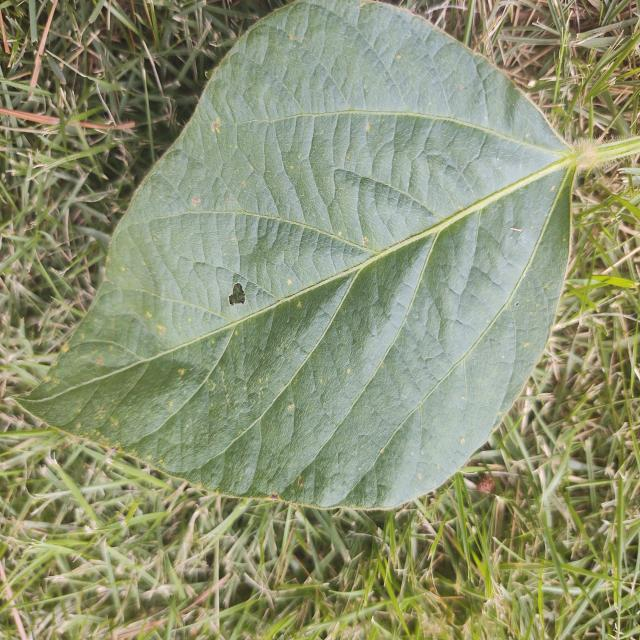Soybean: (22, 0, 579, 514)
downey_mildew: (430, 166, 577, 443), (118, 201, 310, 368), (17, 319, 232, 454), (261, 253, 384, 459), (271, 235, 408, 404), (182, 321, 325, 482), (416, 114, 565, 230), (304, 0, 416, 135), (342, 224, 439, 367), (339, 392, 449, 501), (438, 240, 518, 374), (350, 112, 435, 231), (14, 350, 154, 413), (265, 106, 322, 245), (245, 208, 326, 302), (429, 202, 483, 305)
